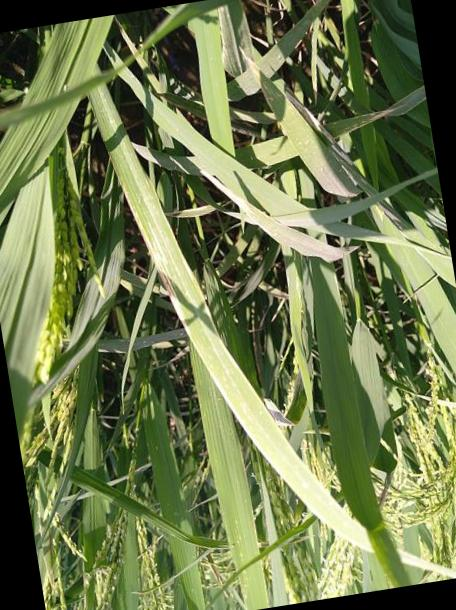Leaf Streak: (240, 49, 355, 195), (123, 181, 188, 336), (322, 104, 398, 137)
